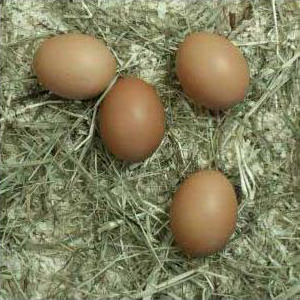egg: (170, 168, 238, 260), (97, 76, 166, 163), (176, 32, 249, 111), (32, 34, 118, 101)
